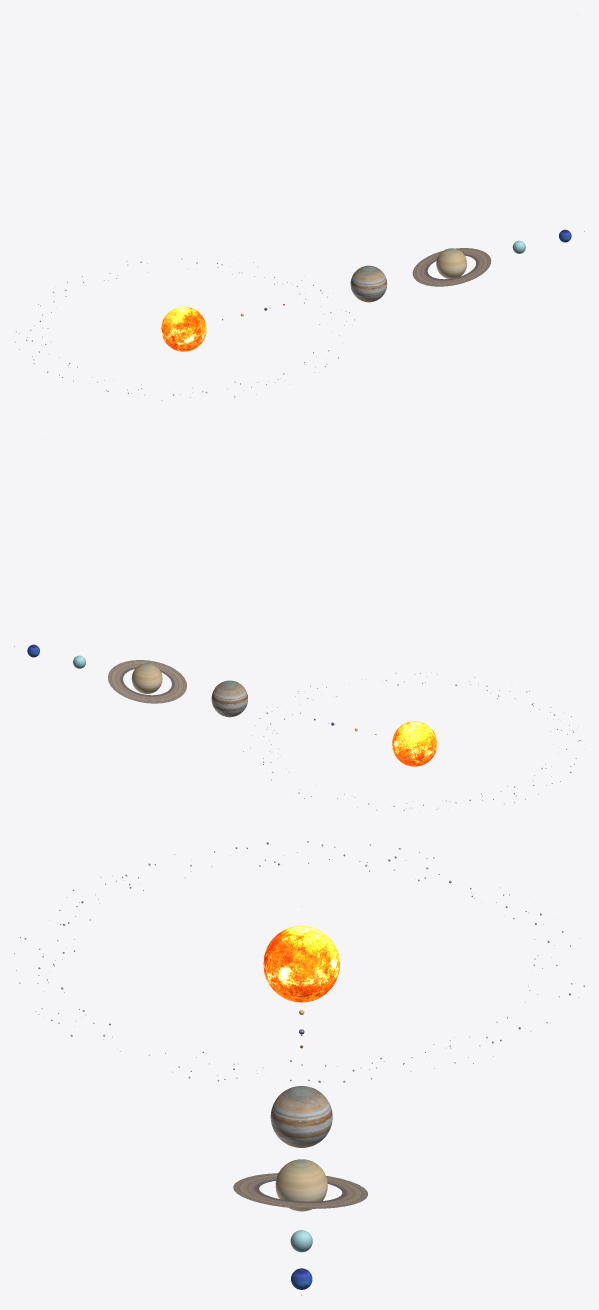
The model's file is Sketchfab_2022_10_19_16_42_35.fbx.
The picture shows the model from 3 angles, top to bottom: view 1: azimuth 30°, elevation 25°; view 2: azimuth 150°, elevation 25°; view 3: azimuth 270°, elevation 25°; orthographic projection. The views are drawn at different scales.
Parts seen in each view (by area): view 1: 00_sun, saturn_ring, 06_jupiter, 07_saturn; view 2: 00_sun, saturn_ring, 06_jupiter, 07_saturn; view 3: 00_sun, 06_jupiter, saturn_ring, 07_saturn.
Boxes of the visible parts, x1,y1,x2,y2 form: 00_sun: (161, 306, 206, 351); saturn_ring: (412, 248, 491, 286); 06_jupiter: (350, 265, 387, 302); 07_saturn: (436, 248, 466, 278); 00_sun: (392, 721, 437, 766); saturn_ring: (108, 660, 186, 703); 06_jupiter: (211, 680, 247, 717); 07_saturn: (131, 663, 162, 694); 00_sun: (263, 925, 339, 1002); 06_jupiter: (270, 1086, 332, 1147); saturn_ring: (233, 1173, 367, 1208); 07_saturn: (275, 1159, 327, 1211).
Size of the model in its own units: 246641 by 102785 by 131204.
Materials: 16 (16 with a texture image).
